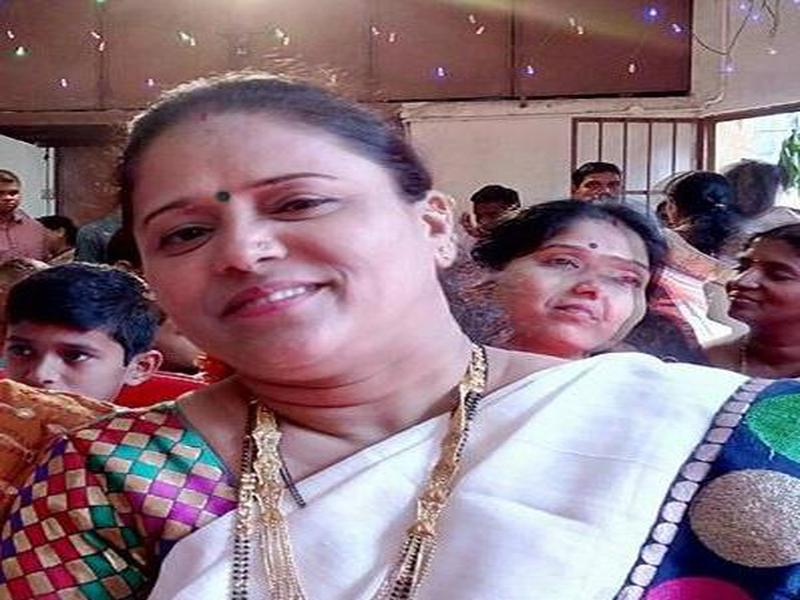without_mask: (131, 134, 408, 385)
